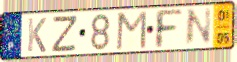8: (89, 12, 113, 53)
F: (153, 8, 185, 50)
K: (26, 16, 48, 54)
M: (114, 9, 148, 52)
N: (183, 6, 213, 49)
Z: (50, 14, 80, 54)
